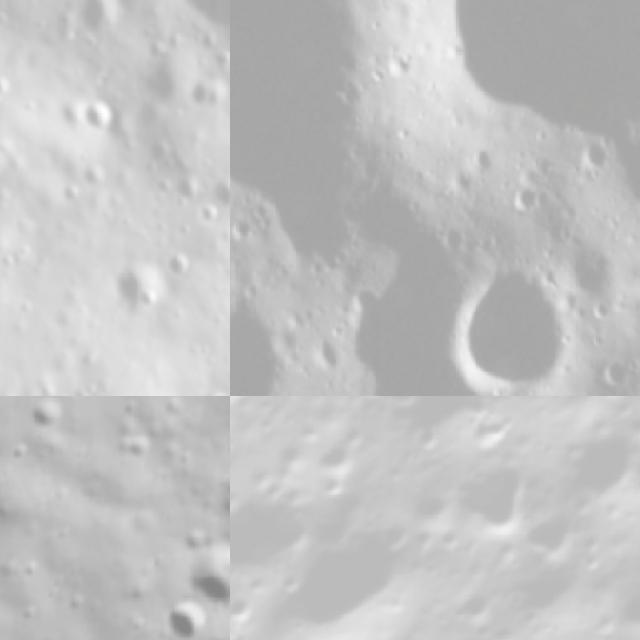crater: (251, 500, 444, 640), (454, 247, 580, 396), (430, 437, 555, 561), (230, 468, 329, 615), (361, 396, 514, 478), (549, 408, 640, 523), (495, 544, 602, 640), (514, 492, 596, 575), (230, 297, 291, 396), (179, 526, 230, 620), (109, 252, 172, 325), (306, 425, 369, 490), (400, 476, 462, 538), (156, 586, 227, 640), (462, 403, 520, 460), (447, 578, 501, 632), (366, 509, 419, 561), (19, 396, 80, 440), (76, 92, 122, 144), (114, 421, 160, 468), (75, 0, 127, 41), (182, 74, 230, 114), (230, 583, 267, 634), (380, 42, 420, 86), (0, 115, 19, 204), (572, 134, 608, 178), (504, 181, 544, 219), (170, 168, 207, 209), (599, 354, 633, 396), (160, 252, 201, 284), (193, 201, 228, 233), (589, 396, 640, 415), (344, 396, 395, 411), (209, 177, 230, 213), (0, 70, 15, 108), (197, 383, 230, 396)
